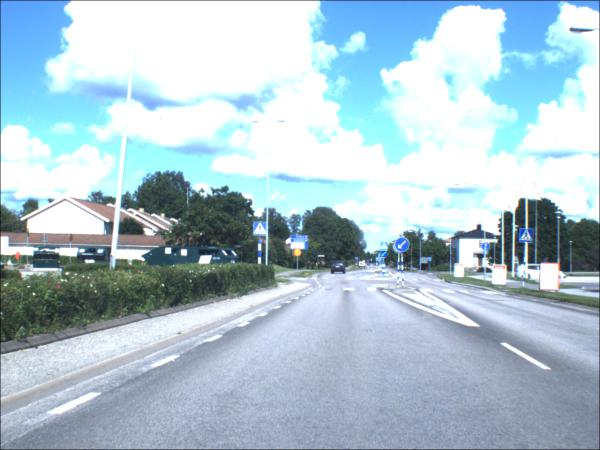50_SIGN: (292, 250, 302, 258)
PASS_RIGHT_SIDE: (395, 238, 410, 254), (380, 252, 389, 259)
PEDESTRIAN_CROSSING: (518, 230, 534, 244), (254, 224, 267, 237), (380, 244, 388, 251)
